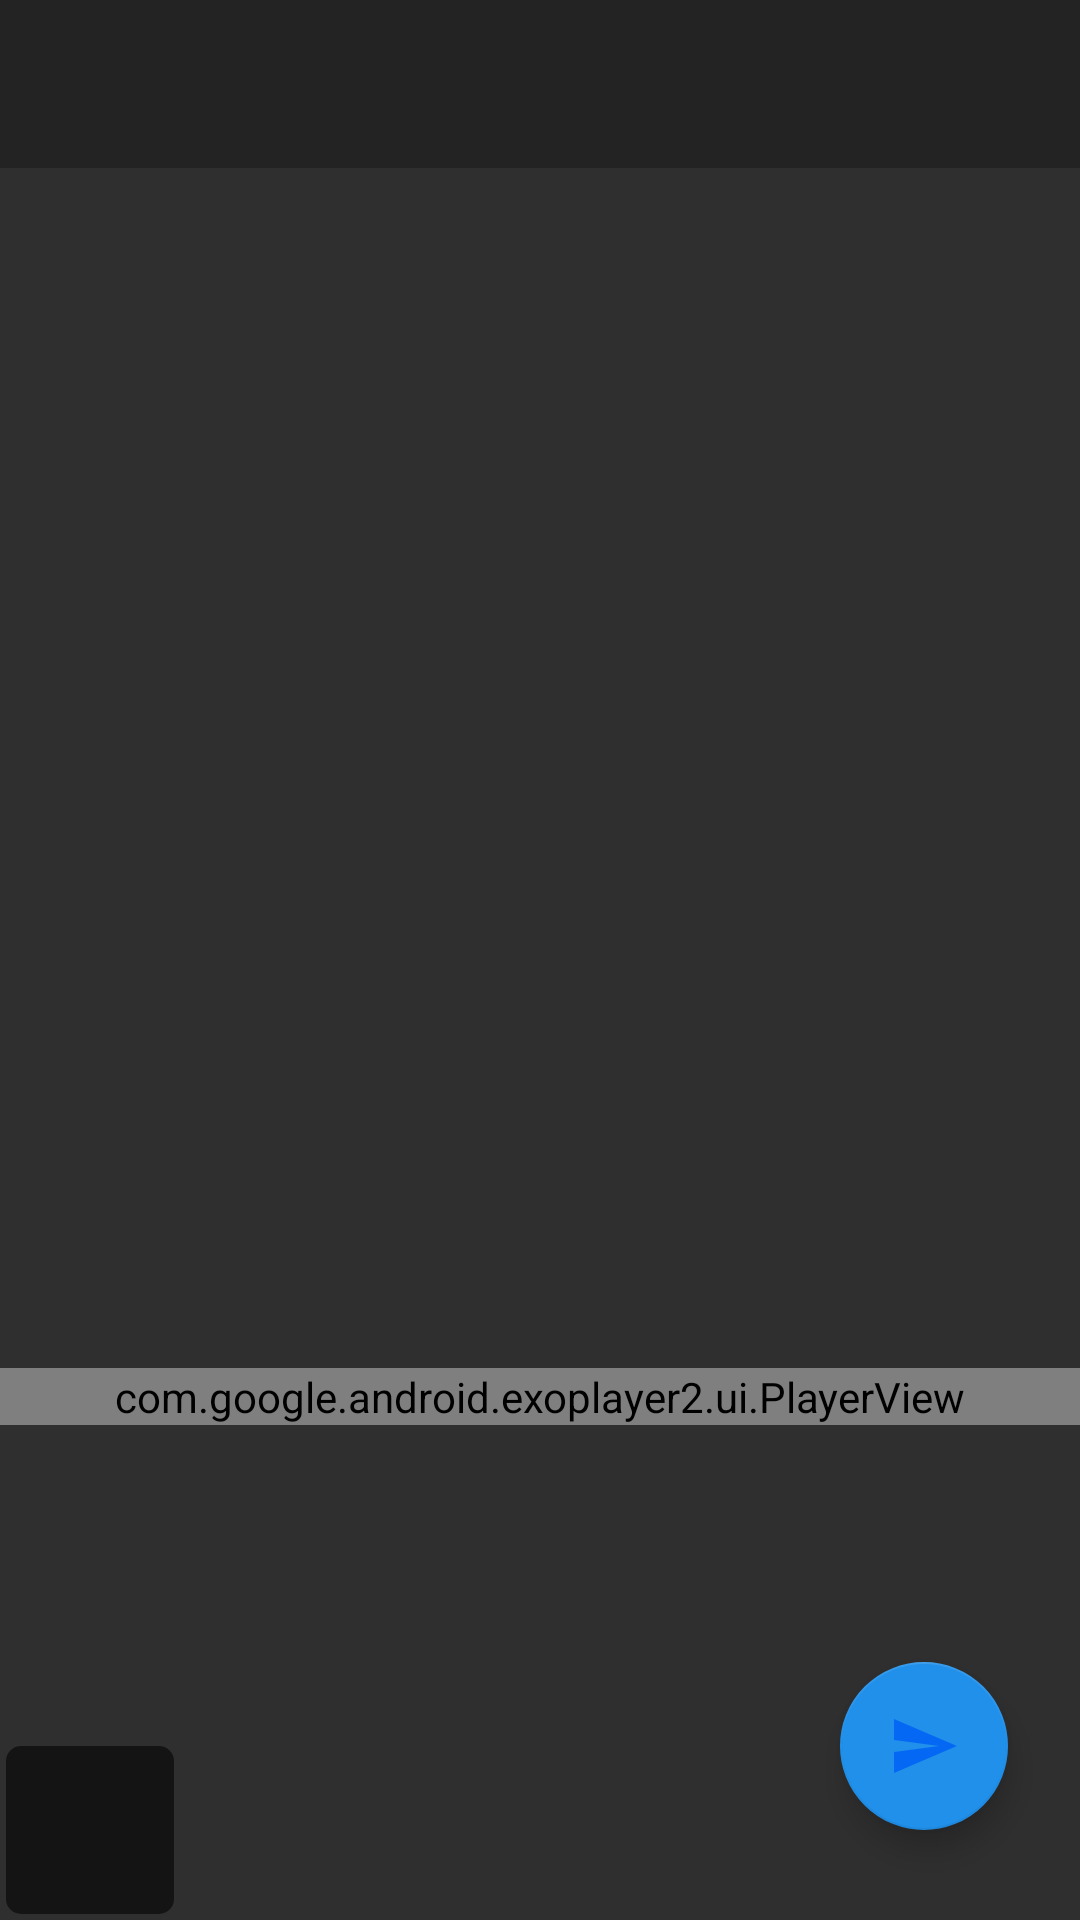

Where icons sit on this 1080 × 1920 app screen, as (x1, y1, x2, y2):
send: (840, 1662, 1008, 1830)
